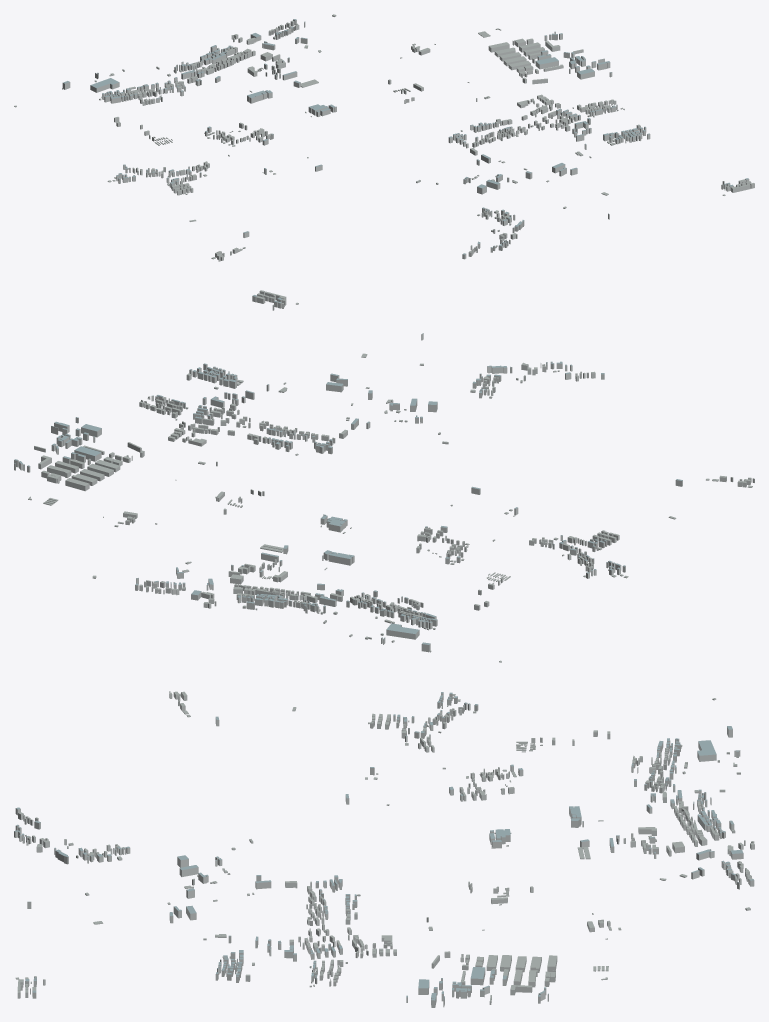
File: far.glb
3 renders of one model, top to bottom at view 1: azimuth 30°, elevation 25°; view 2: azimuth 150°, elevation 25°; view 3: azimuth 270°, elevation 25°, orthographic. The views are drawn at different scales.
Bounding box in the file's own units: 2114 × 25.05 × 2110.
